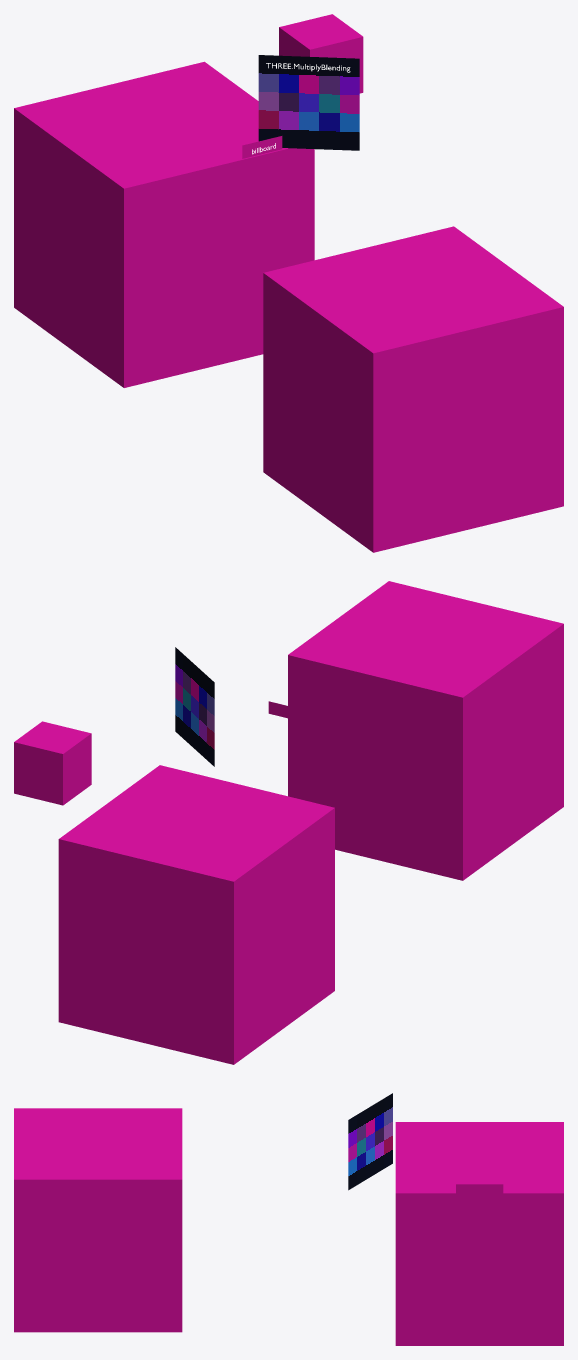
File: janus.glb
3 renders of one model, top to bottom at view 1: azimuth 30°, elevation 25°; view 2: azimuth 150°, elevation 25°; view 3: azimuth 270°, elevation 25°, orthographic. The views are drawn at different scales.
Parts seen in each view (by area): view 1: Cube, Cube2, additive, Cube2.001; view 2: Cube2, Cube, Cube2.001, additive; view 3: Cube, Cube2, additive, Cube2.001.
Part boxes in pixels (x1,y1,x2,y2): Cube: (263,226,563,552); Cube2: (14,61,314,387); additive: (258,55,359,150); Cube2.001: (279,14,363,93); Cube2: (58,765,334,1064); Cube: (288,581,563,880); Cube2.001: (14,721,91,805); additive: (175,647,214,766); Cube: (14,1108,182,1332); Cube2: (395,1122,563,1345); additive: (348,1093,392,1190); Cube2.001: (456,1164,503,1226).
Size of the model in its own units: 15.91 by 16.47 by 35.51.
3 materials, 1 textured.
